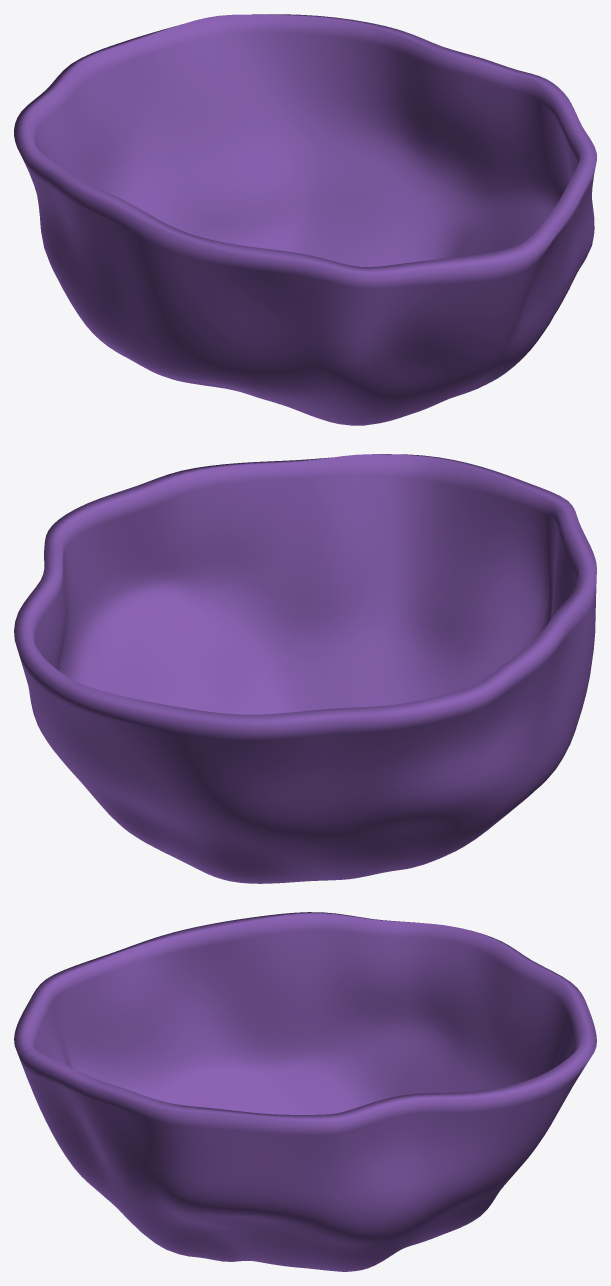
The model's file is membrane.gltf.
The picture shows the model from 3 angles, top to bottom: view 1: azimuth 30°, elevation 25°; view 2: azimuth 150°, elevation 25°; view 3: azimuth 270°, elevation 25°; orthographic projection. The views are drawn at different scales.
Visible parts, largest first — view 1: Sphere; view 2: Sphere; view 3: Sphere.
Boxes of the visible parts, x1,y1,x2,y2 form: Sphere: [14, 14, 596, 425]; Sphere: [14, 454, 596, 883]; Sphere: [14, 912, 596, 1271].
Size of the model in its own units: 5.96 by 2.99 by 7.05.
